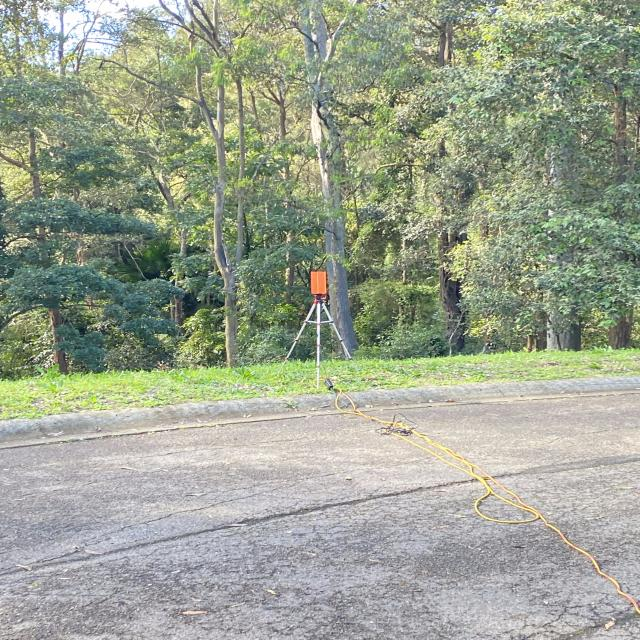matrix: (306, 266, 338, 300)
